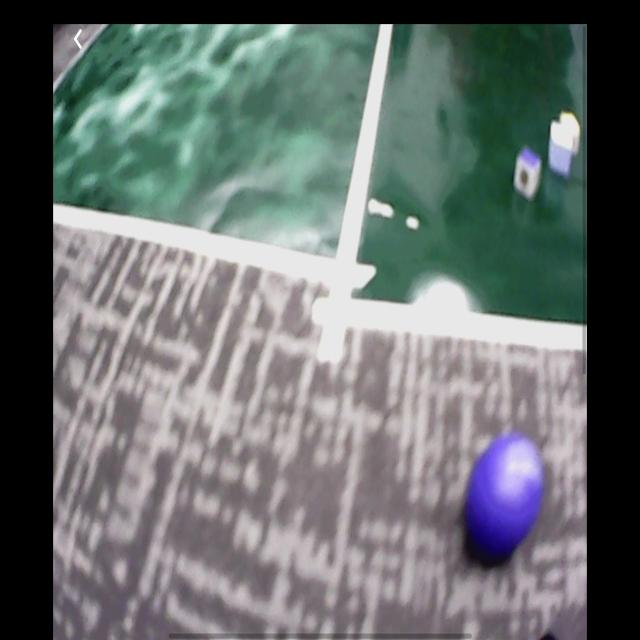ball: (467, 434, 544, 552)
